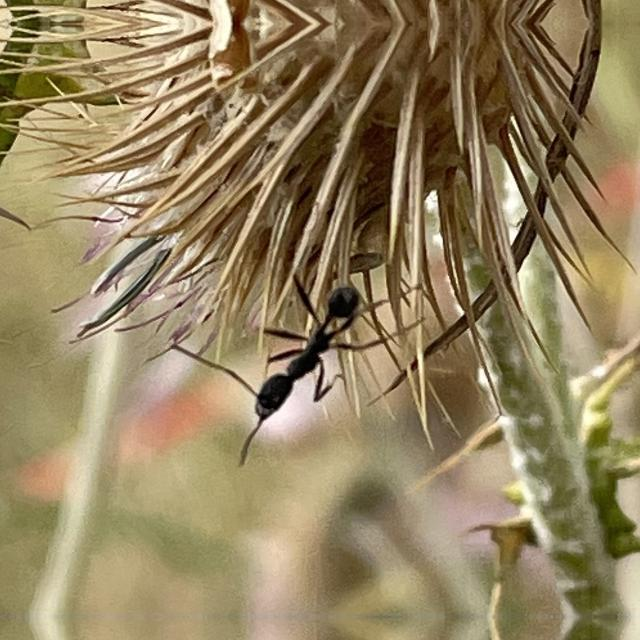Apheanogaster: (220, 256, 386, 444)
